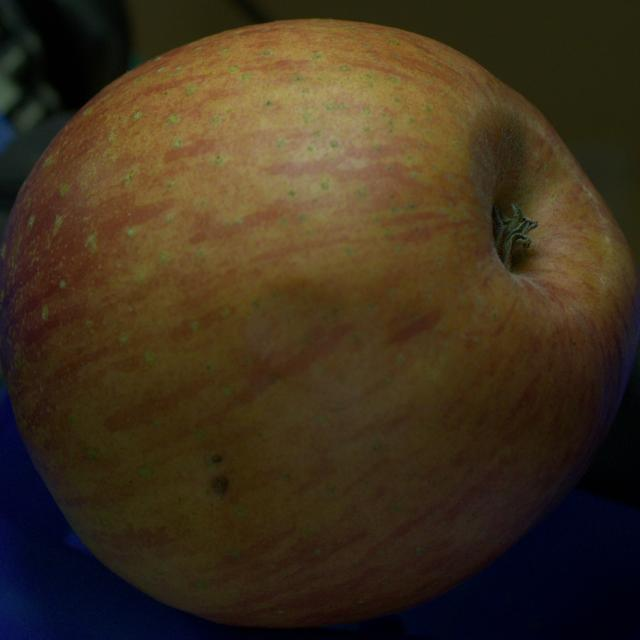apple: (0, 20, 639, 626)
bruise: (240, 288, 439, 416)
pest: (211, 475, 228, 495), (209, 455, 222, 464)
